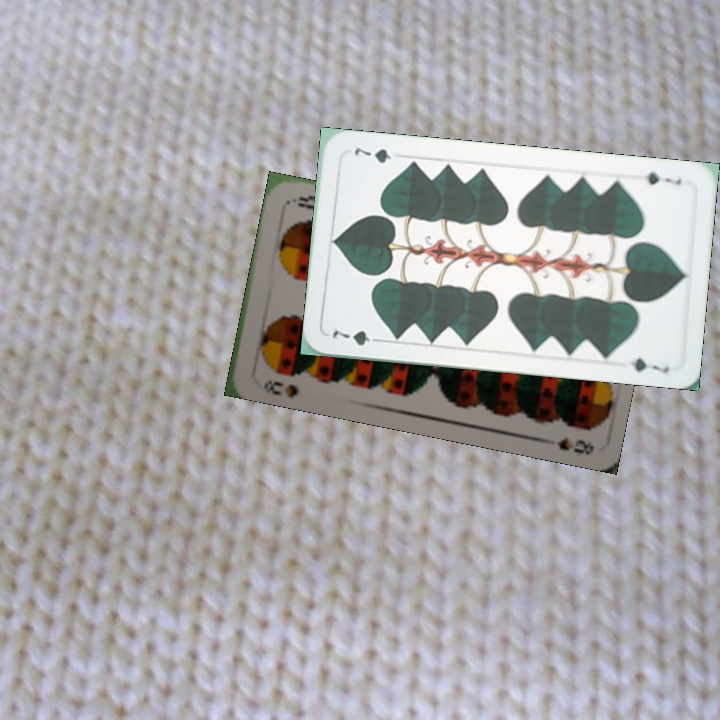G7: (328, 326, 386, 348), (633, 168, 684, 188)
S8: (259, 376, 302, 400)
